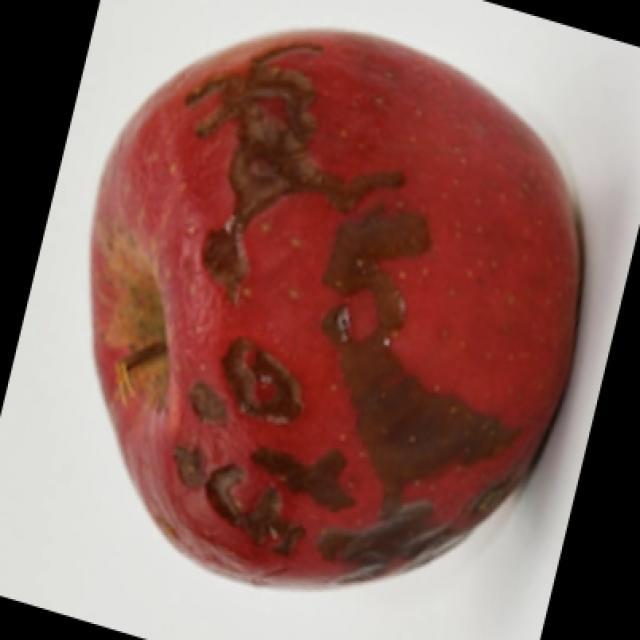Rotten: (107, 42, 578, 573)
